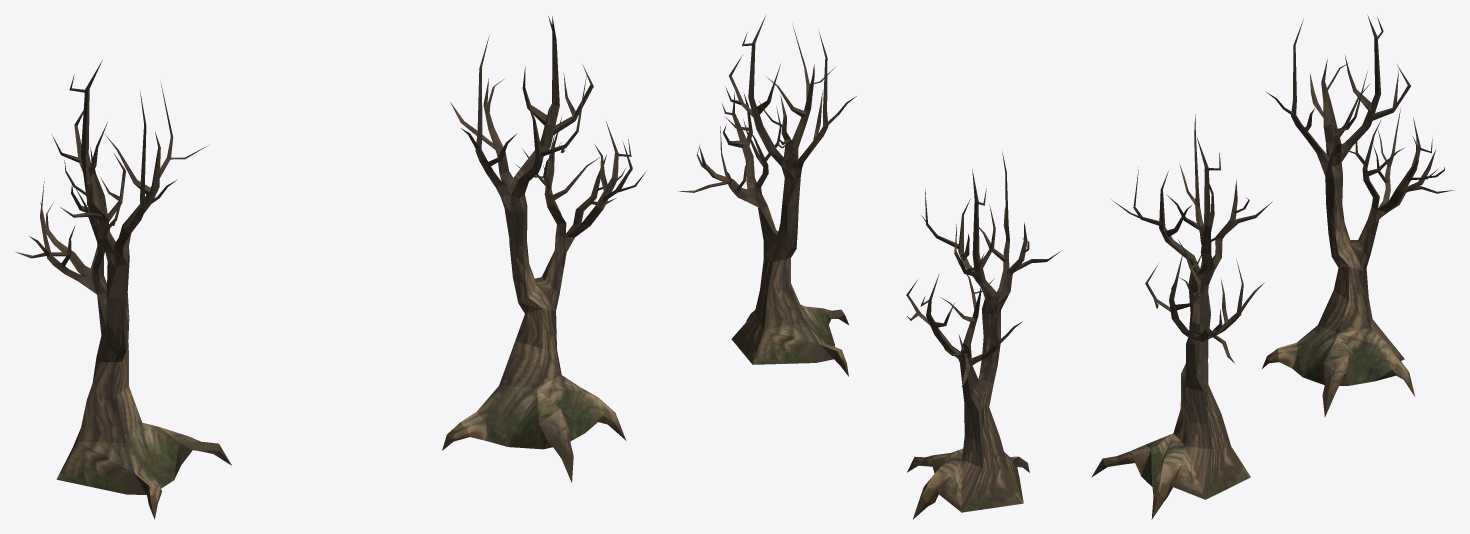
The model's file is plants_tall_tree_trunks10.fbx.
3 views of the same model, side by side, from view 1: azimuth 30°, elevation 25°; view 2: azimuth 150°, elevation 25°; view 3: azimuth 270°, elevation 25° (orthographic). The views are drawn at different scales.
Parts seen in each view (by area): view 1: obj0.147; view 2: obj0.147; view 3: obj0.147.
Boxes of the visible parts, bbox=[...] form: obj0.147: bbox=[15, 16, 646, 519]; obj0.147: bbox=[678, 15, 1060, 519]; obj0.147: bbox=[1091, 15, 1454, 519].
Bounding box in the file's own units: 12.01 × 10.05 × 8.49.
